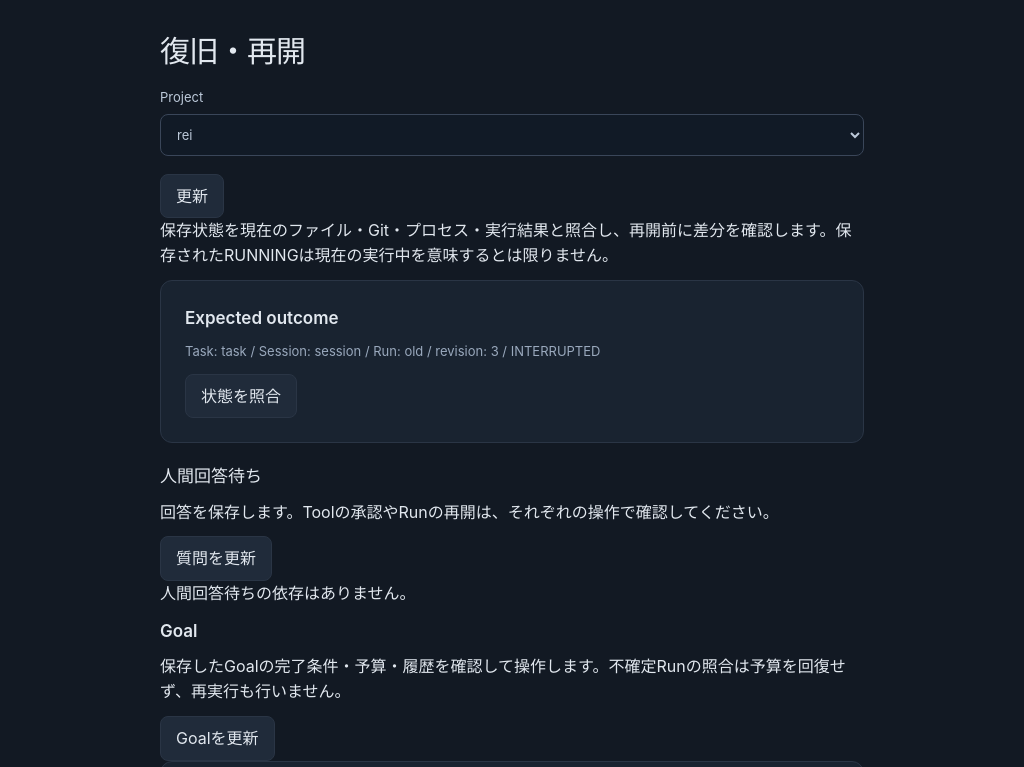
it: does not resume a blocked checkpoint
This screenshot has width=1024, height=767.
Click the button "状態を照合" at (241, 396), box [185,374,297,418]
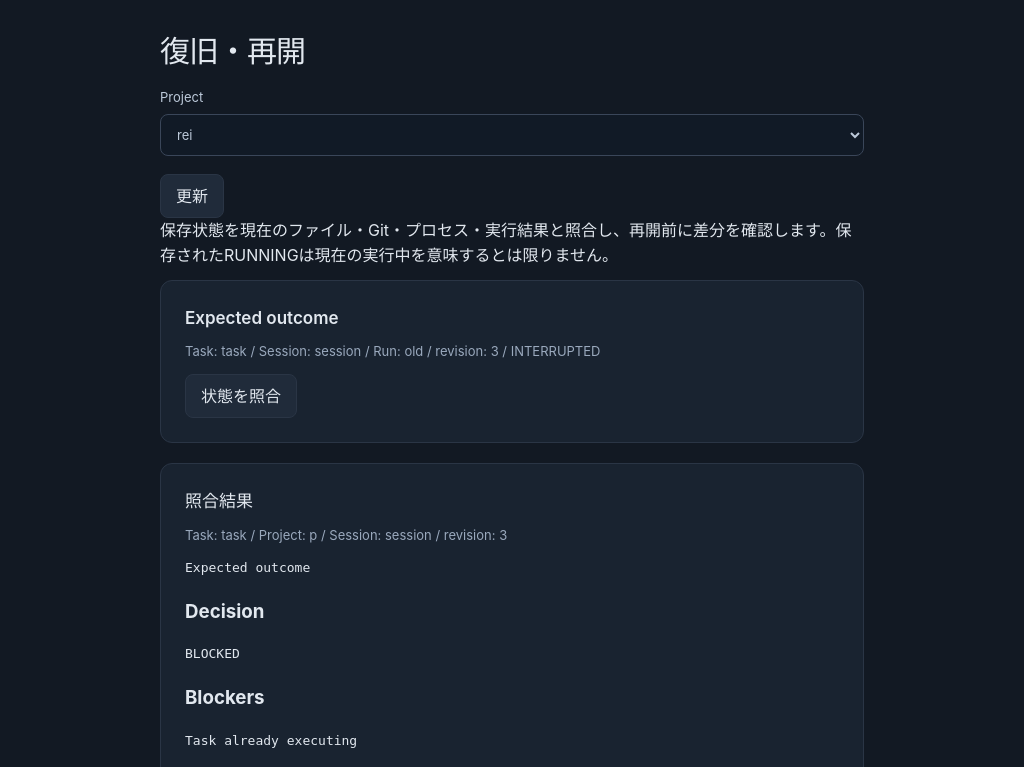
Check: the text "Task already executing" is shown, box [185,733,357,748]
